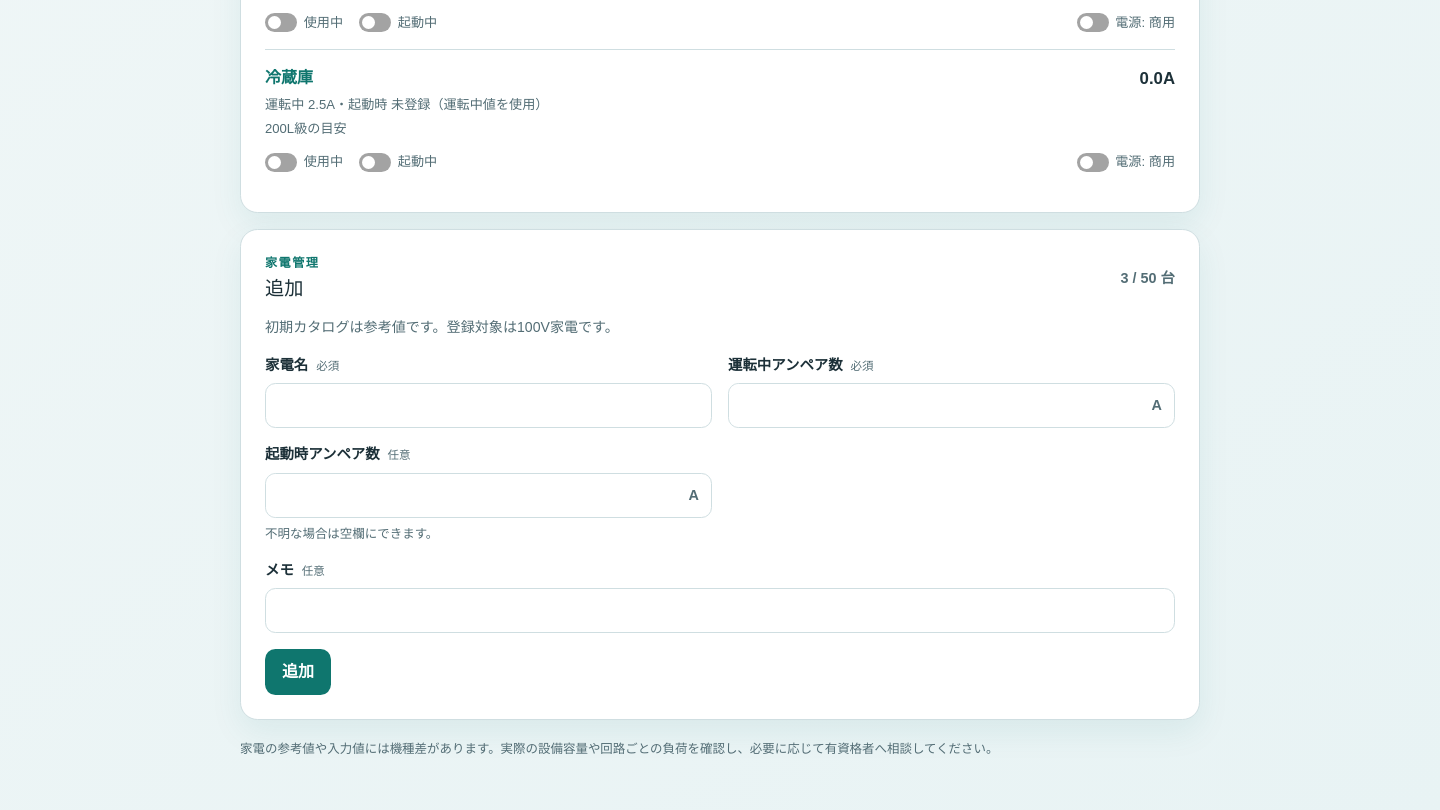
Test: Home › adds a user appliance as enabled and distinguishes starting state
(page scrolled)
Type "扇風機" into the field labelled "家電名 必須". click: (488, 406)
box: left=265, top=383, right=712, bottom=428
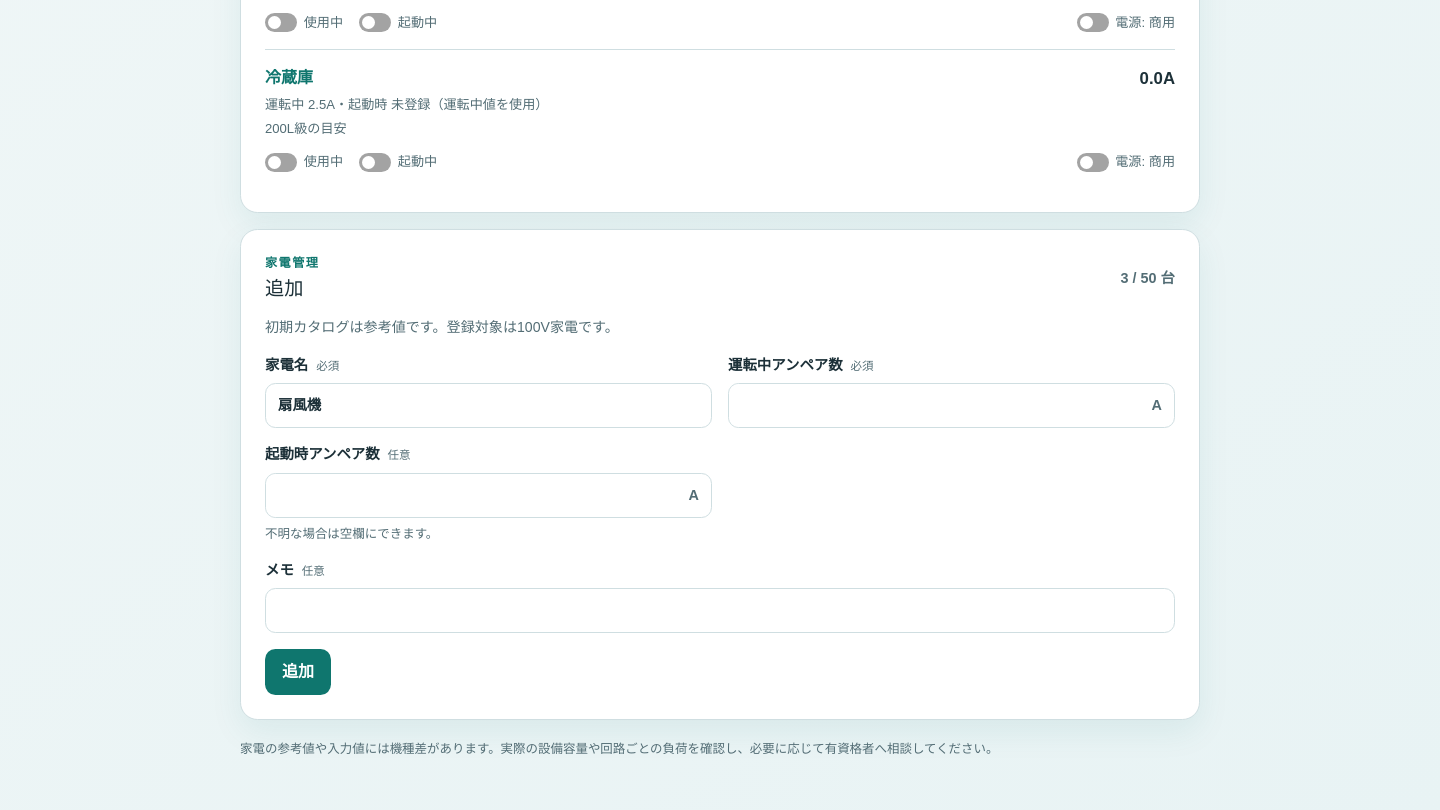
Type "1.2" into the field labelled "運転中アンペア数 必須 A". click: (940, 406)
box: left=729, top=384, right=1152, bottom=427
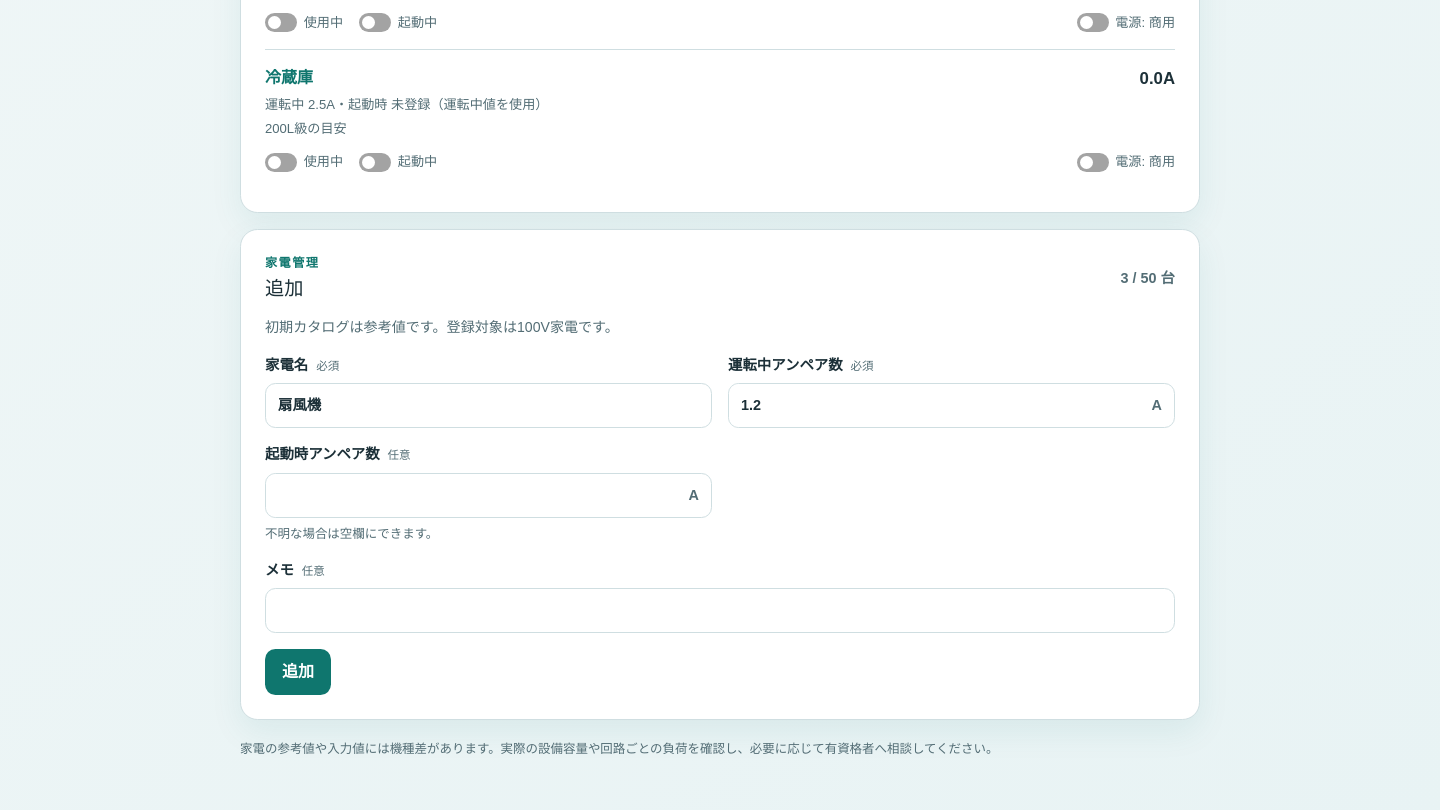
Type "2.8" into the field labelled "起動時アンペア数 任意 A 不明な場合は空欄にできます。". click: (477, 495)
box: left=266, top=474, right=689, bottom=517
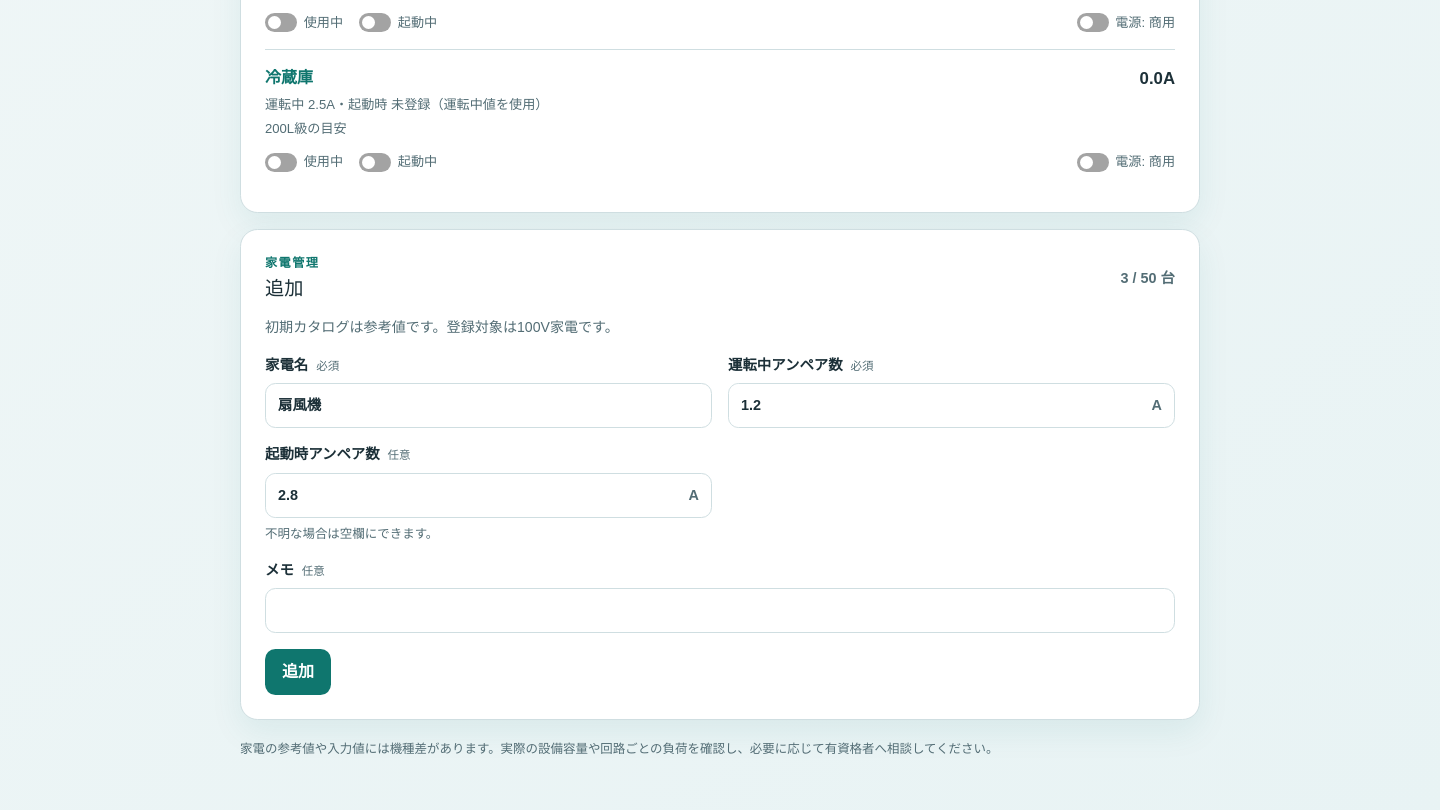
Click the button "追加". click: (298, 672)
box: left=265, top=649, right=331, bottom=695
(page scrolled)
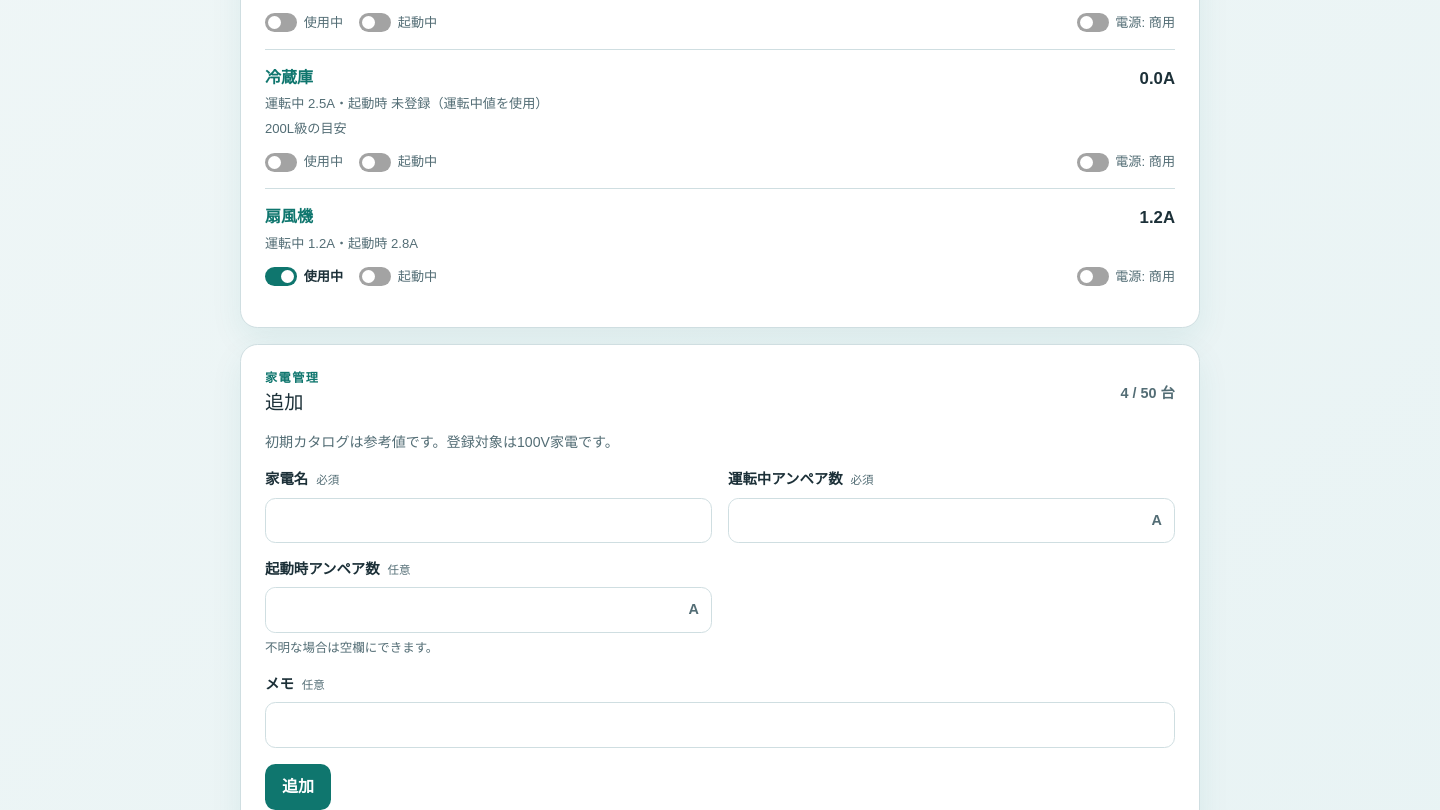
Click the switch named "扇風機を起動中にする". click: (398, 277)
box: left=359, top=267, right=437, bottom=287
(page scrolled)
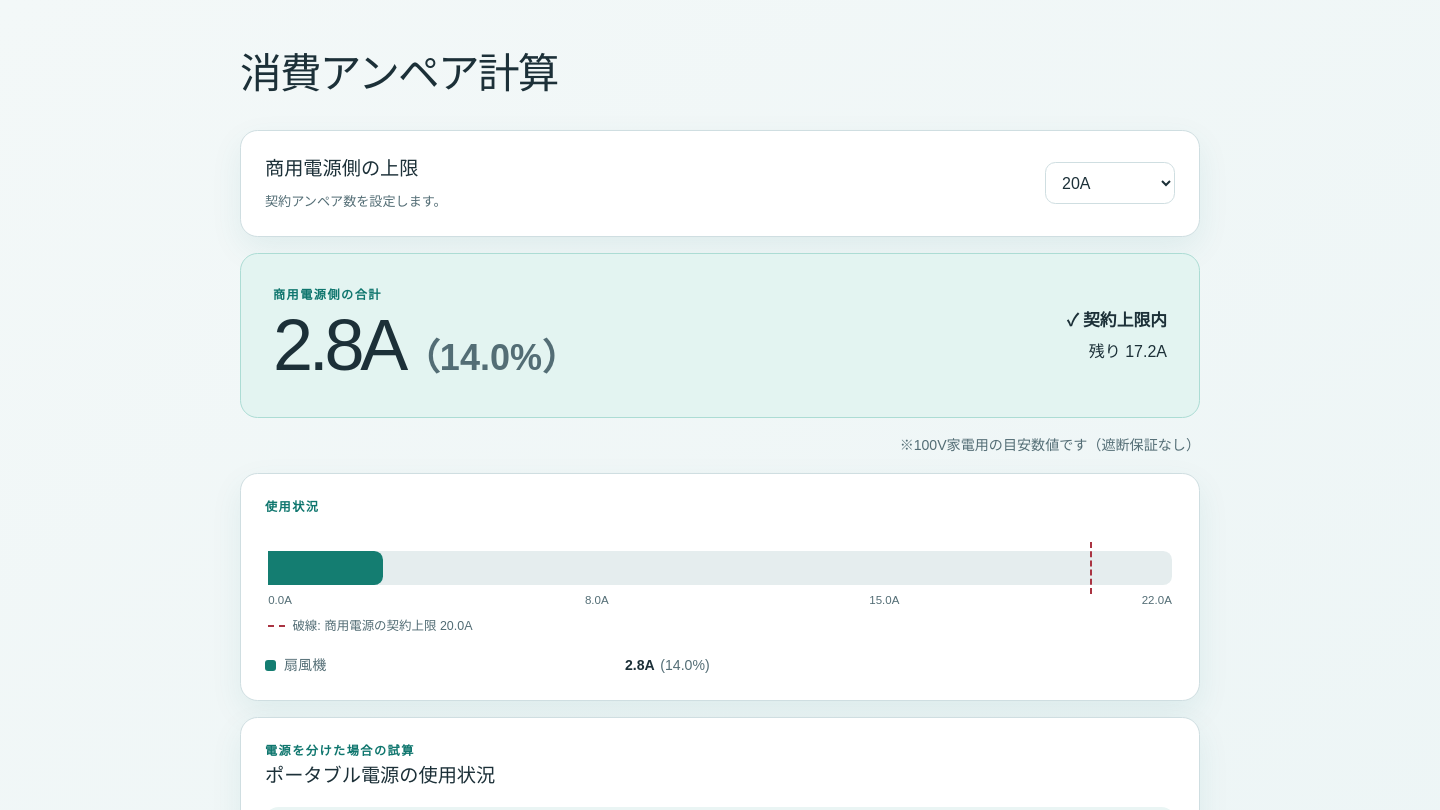
Expected: the heading "2.8A" is shown, left=273, top=309, right=404, bottom=381
